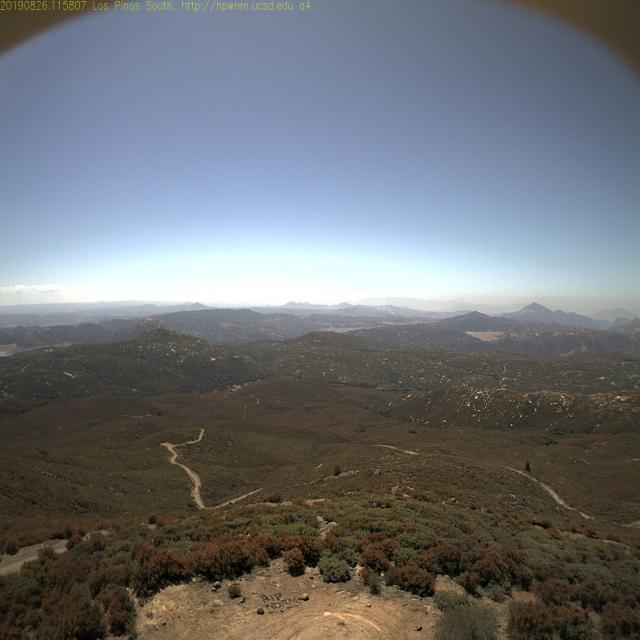smoke: (383, 304, 395, 316)
